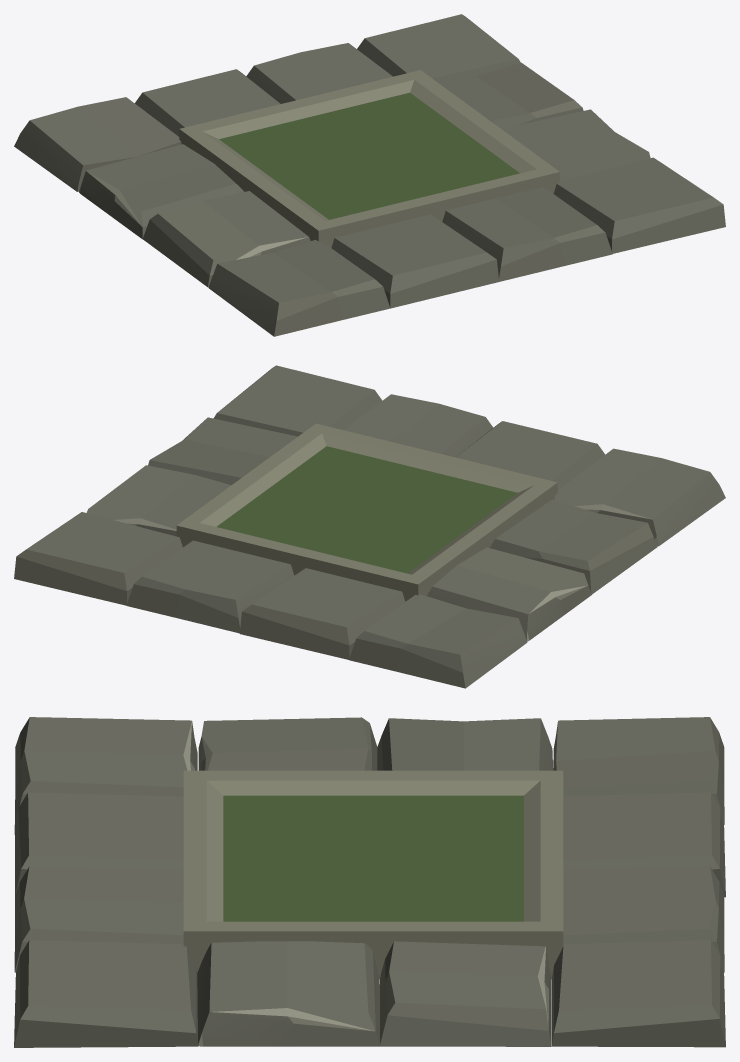
File: Floor_Tree.gltf
3 views of the same model, one above another, from view 1: azimuth 30°, elevation 25°; view 2: azimuth 150°, elevation 25°; view 3: azimuth 270°, elevation 25° (orthographic). The views are drawn at different scales.
Visible parts, largest first — view 1: Floor_Tree; view 2: Floor_Tree; view 3: Floor_Tree.
Part boxes in pixels (x1,y1,x2,y2): Floor_Tree: (14, 14, 725, 336); Floor_Tree: (14, 365, 725, 688); Floor_Tree: (14, 717, 725, 1047).
Size of the model in its own units: 1.99 by 0.1484 by 2.
